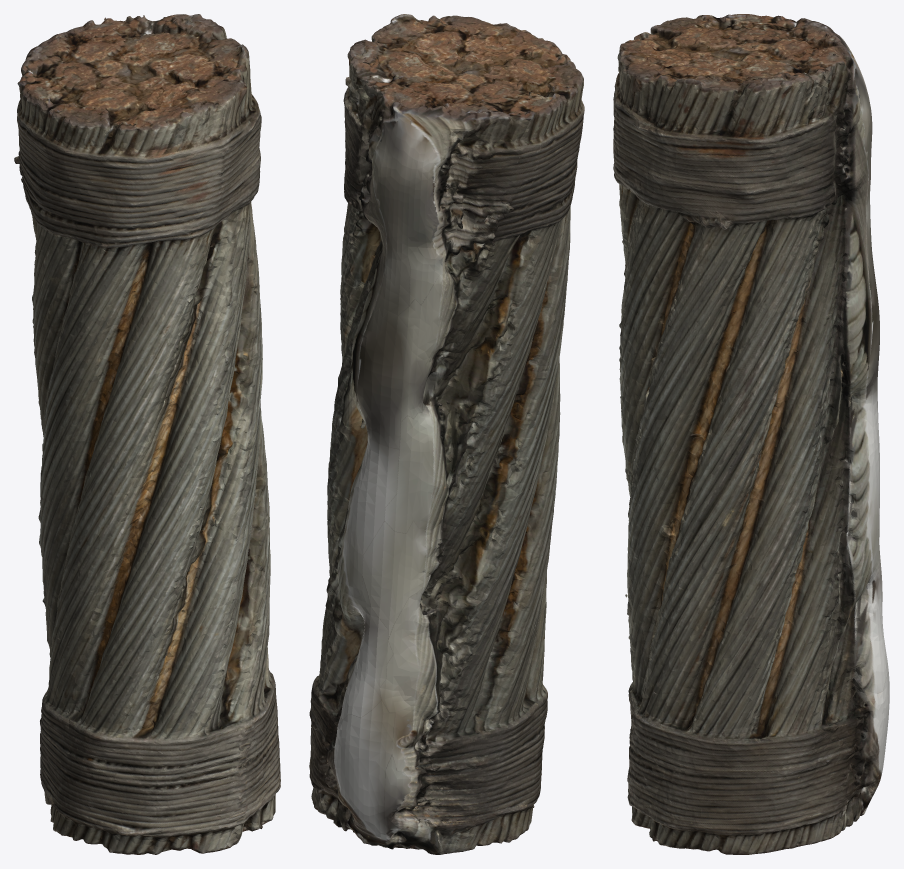
Rendered from Cable.fbx.
3 views of the same model, side by side, from view 1: azimuth 30°, elevation 25°; view 2: azimuth 150°, elevation 25°; view 3: azimuth 270°, elevation 25° (orthographic).
Parts seen in each view (by area): view 1: Model; view 2: Model; view 3: Model.
Part boxes in pixels (x1,y1,x2,y2): Model: (14, 14, 280, 854); Model: (309, 14, 584, 854); Model: (613, 14, 889, 854).
Size of the model in its own units: 0.56 by 0.5621 by 1.73.
